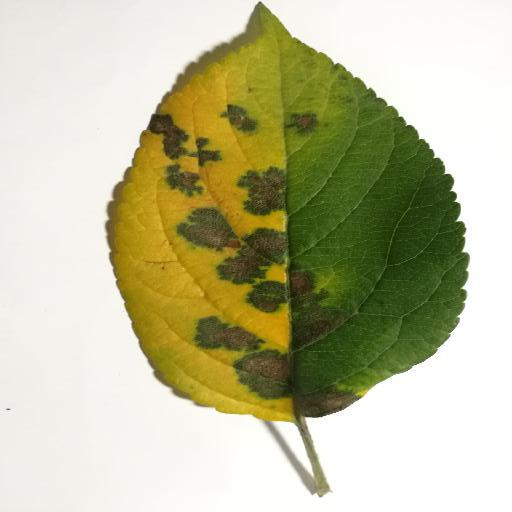Brown_Spot: (141, 114, 366, 419)
